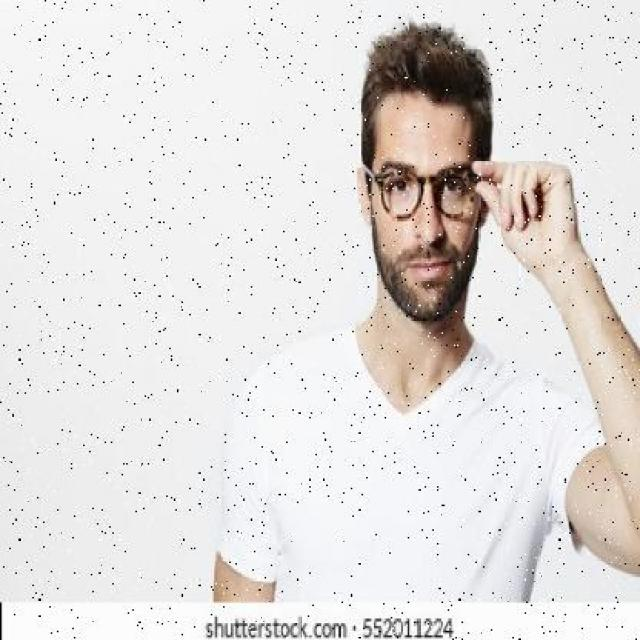glasses: (371, 160, 492, 226)
